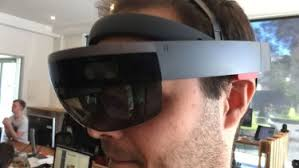hololens: (47, 38, 270, 134)
